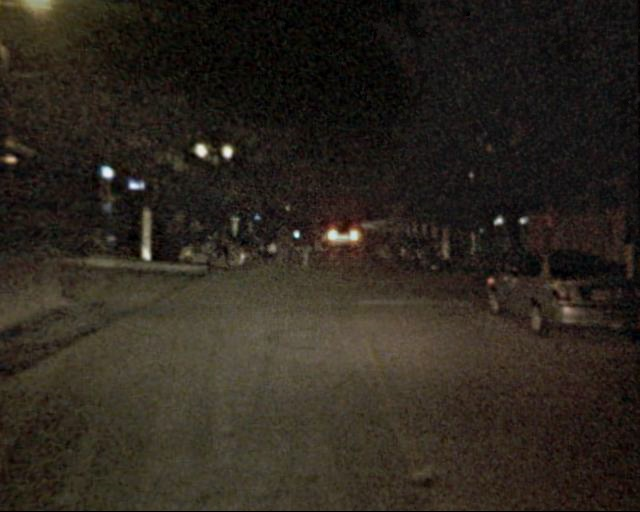person: (215, 221, 237, 277), (298, 224, 318, 274), (274, 222, 295, 268), (253, 220, 274, 264)
